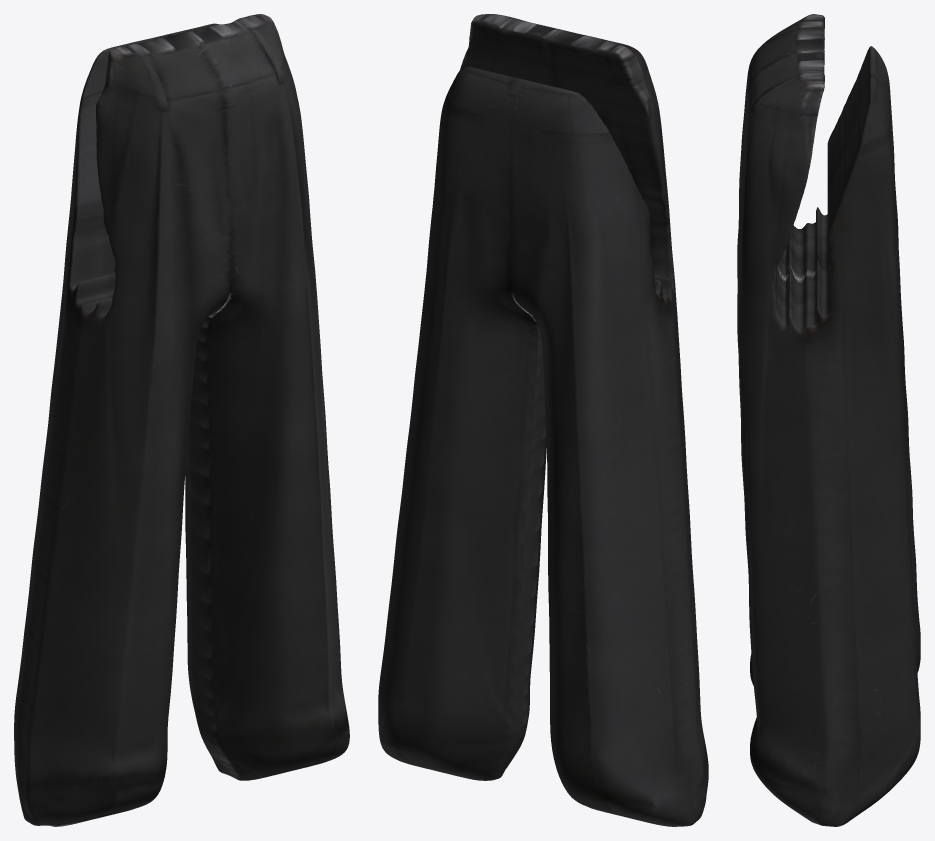
Rendered from NF004-worn-v3.glb.
3 views of the same model, side by side, from view 1: azimuth 30°, elevation 25°; view 2: azimuth 150°, elevation 25°; view 3: azimuth 270°, elevation 25° (orthographic). The views are drawn at different scales.
Visible parts, largest first — view 1: NF004_worn_photo_fitted; view 2: NF004_worn_photo_fitted; view 3: NF004_worn_photo_fitted.
Boxes of the visible parts, box(x1,y1,x2,y2) form: NF004_worn_photo_fitted: box(14, 14, 349, 826); NF004_worn_photo_fitted: box(378, 14, 708, 826); NF004_worn_photo_fitted: box(737, 14, 920, 826).
Bounding box in the file's own units: 0.4845 × 1.11 × 0.2587.
Materials: 1 (1 with a texture image).
